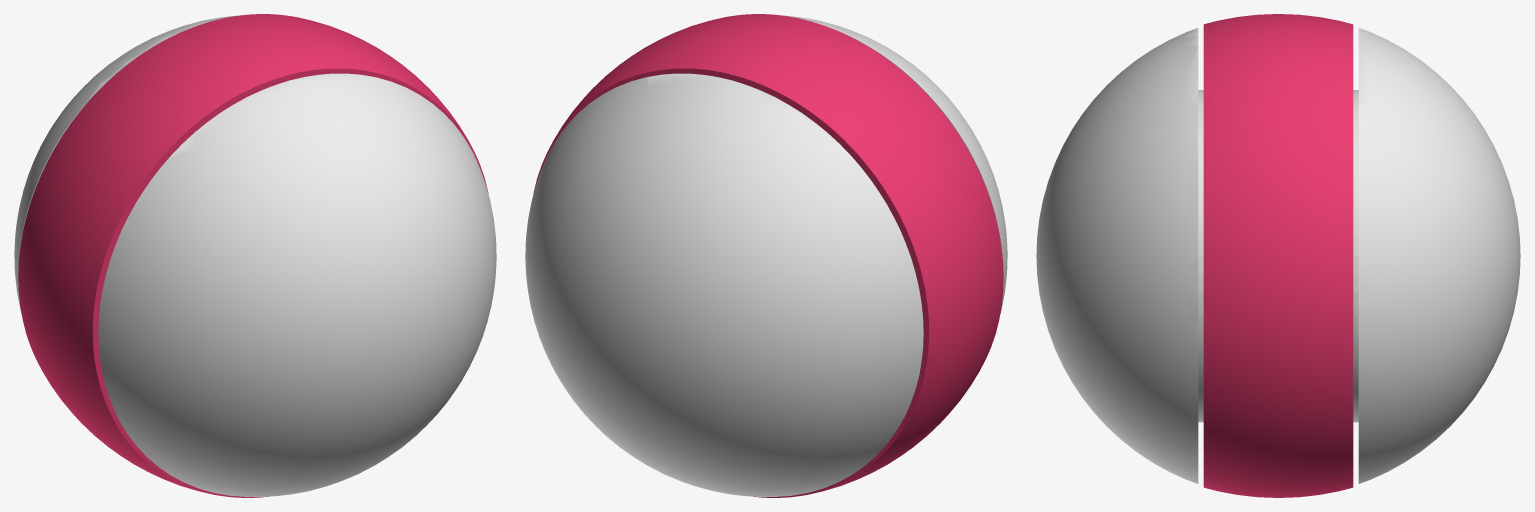
The model's file is SoundObjectRedux.fbx.
3 renders of one model, left to right at view 1: azimuth 30°, elevation 25°; view 2: azimuth 150°, elevation 25°; view 3: azimuth 270°, elevation 25°, orthographic.
Visible parts, largest first — view 1: Icosphere; view 2: Icosphere; view 3: Icosphere.
Boxes of the visible parts, x1=… form: Icosphere: x1=14, y1=14, x2=496, y2=497; Icosphere: x1=525, y1=14, x2=1007, y2=497; Icosphere: x1=1036, y1=14, x2=1520, y2=497.
Bounding box in the file's own units: 200 × 200 × 200.
